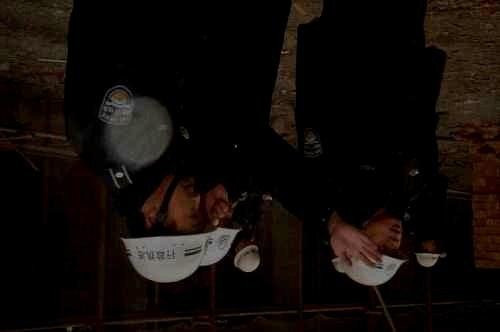helmet: (119, 184, 218, 283), (341, 216, 408, 286), (199, 185, 243, 267), (235, 239, 261, 273), (415, 239, 441, 267), (332, 252, 345, 274)
